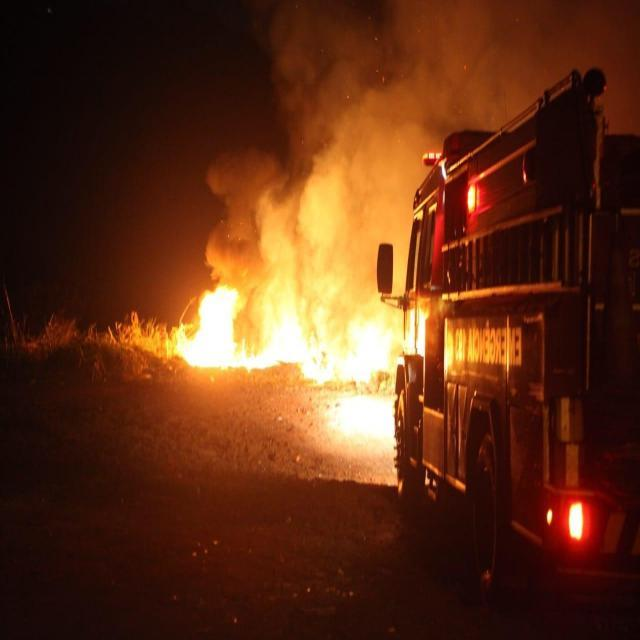Fire: (164, 284, 428, 386)
Smoke: (203, 1, 640, 350)
